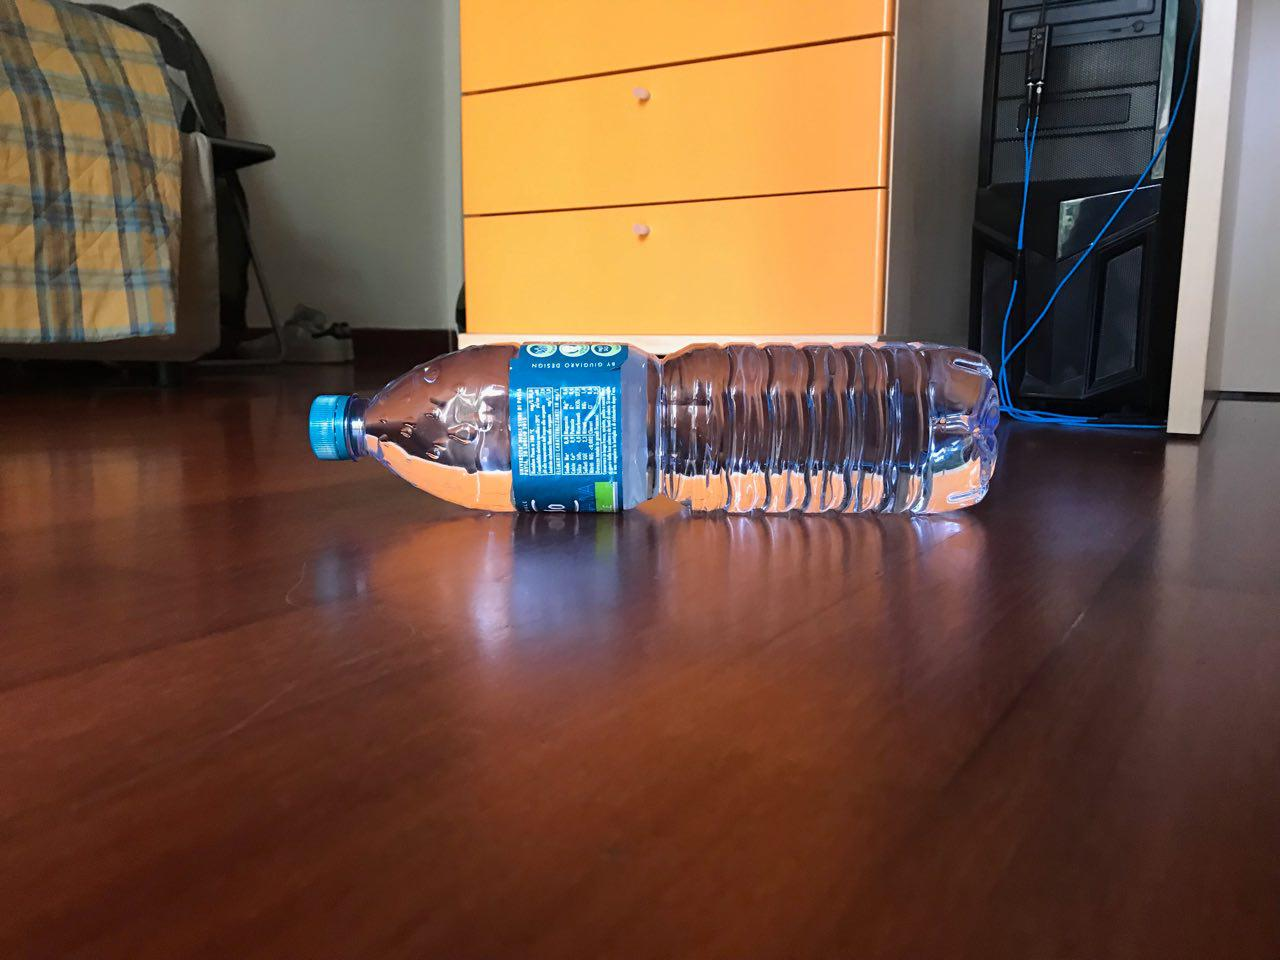san_bernardo: (306, 340, 1001, 517)
